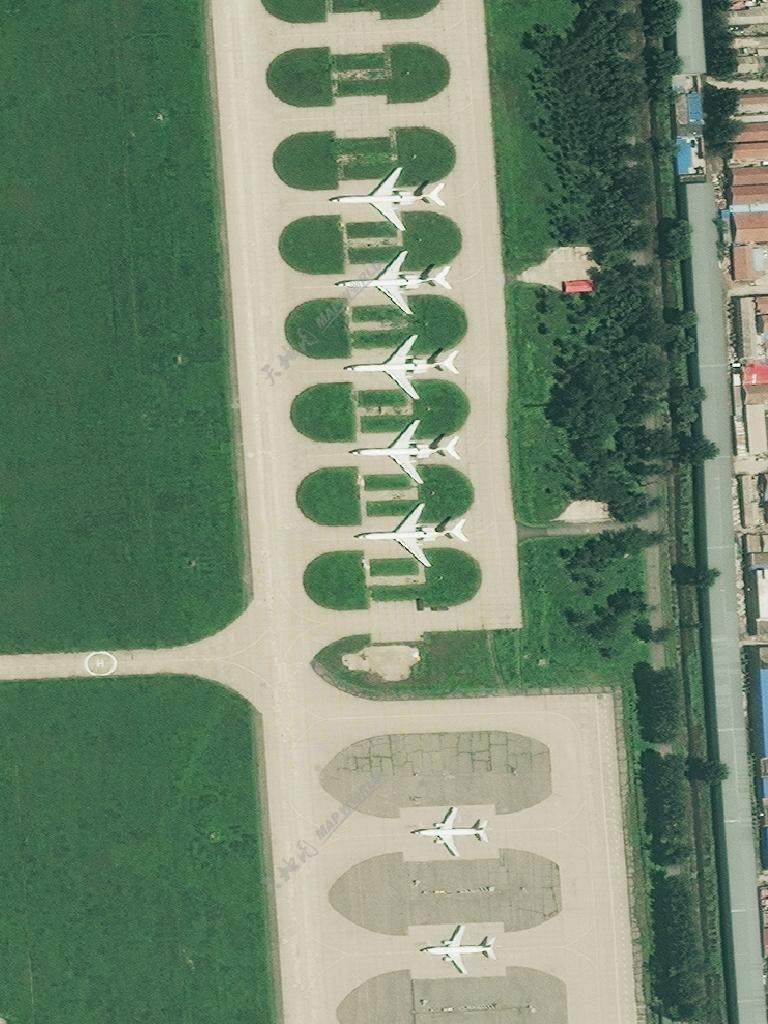aircraft: (340, 330, 468, 408), (345, 501, 477, 573), (325, 163, 453, 235), (331, 250, 457, 321), (346, 417, 468, 489), (409, 799, 496, 864), (418, 921, 501, 981)
